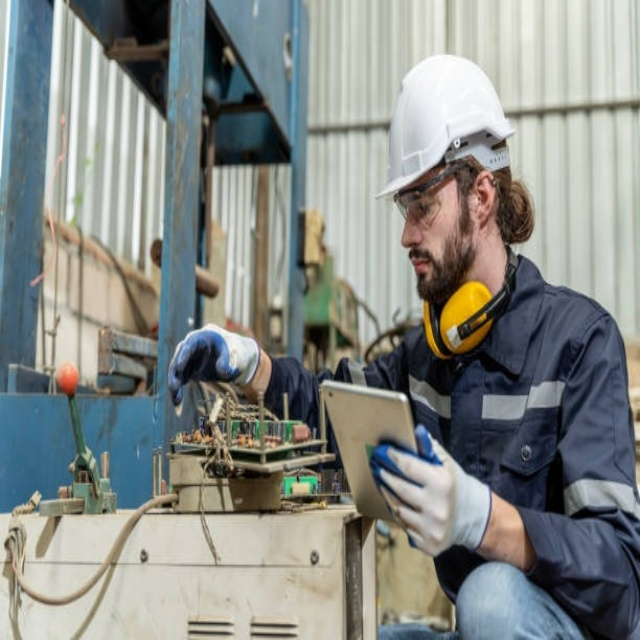Gafas: (394, 163, 461, 218)
Guantes: (371, 425, 490, 558), (167, 322, 261, 402)
Sin_mascara: (405, 246, 437, 293)
